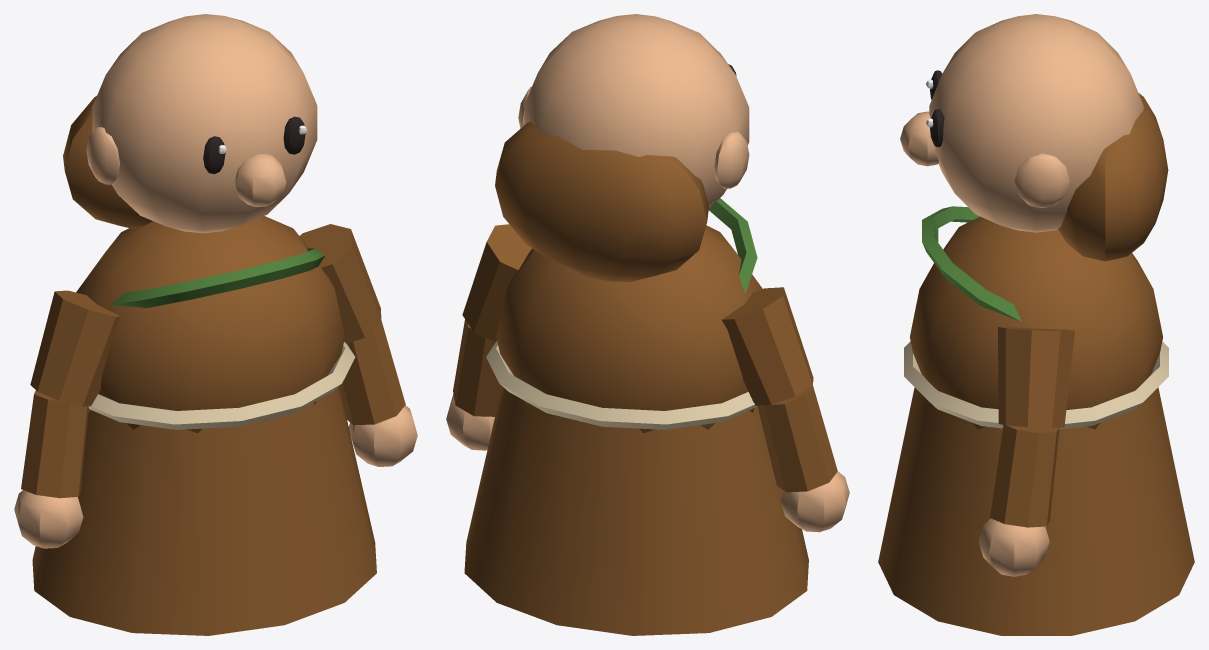
Rendered from CH_Cust_11_Kesis.fbx.
3 renders of one model, left to right at view 1: azimuth 30°, elevation 25°; view 2: azimuth 150°, elevation 25°; view 3: azimuth 270°, elevation 25°, orthographic.
Visible parts, largest first — view 1: CH_Cust_11_Kesis; view 2: CH_Cust_11_Kesis; view 3: CH_Cust_11_Kesis.
Boxes of the visible parts, bbox=[...] form: CH_Cust_11_Kesis: bbox=[14, 14, 417, 635]; CH_Cust_11_Kesis: bbox=[446, 14, 849, 635]; CH_Cust_11_Kesis: bbox=[878, 14, 1194, 635].
Bounding box in the file's own units: 0.7912 × 1.05 × 0.5525.
Materials: 1 (1 with a texture image).
